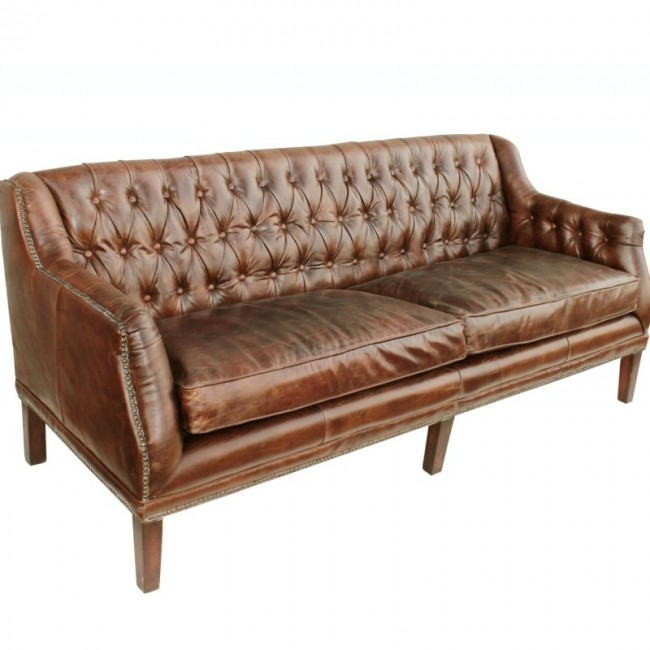chairs: (1, 134, 650, 612)
